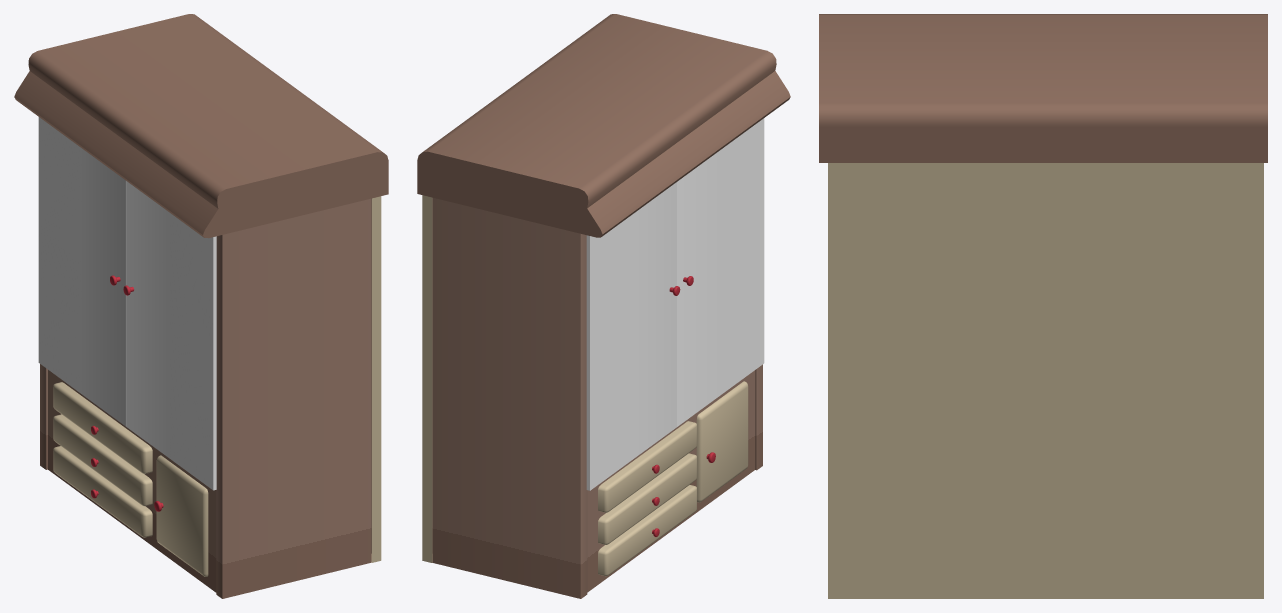
The model's file is vitrina.fbx.
3 renders of one model, left to right at view 1: azimuth 30°, elevation 25°; view 2: azimuth 150°, elevation 25°; view 3: azimuth 270°, elevation 25°, orthographic. The views are drawn at different scales.
Parts seen in each view (by area): view 1: vitrina.001, puertavitrina_00.001, puertavitrina_01.001; view 2: vitrina.001, puertavitrina_01.001, puertavitrina_00.001; view 3: vitrina.001.
Part boxes in pixels (x1,y1,x2,y2): vitrina.001: (14, 14, 388, 598); puertavitrina_00.001: (123, 181, 216, 490); puertavitrina_01.001: (38, 117, 125, 426); vitrina.001: (417, 14, 790, 598); puertavitrina_01.001: (586, 182, 680, 490); puertavitrina_00.001: (677, 118, 764, 426); vitrina.001: (819, 14, 1267, 598).
Size of the model in its own units: 265 by 564 by 467.
